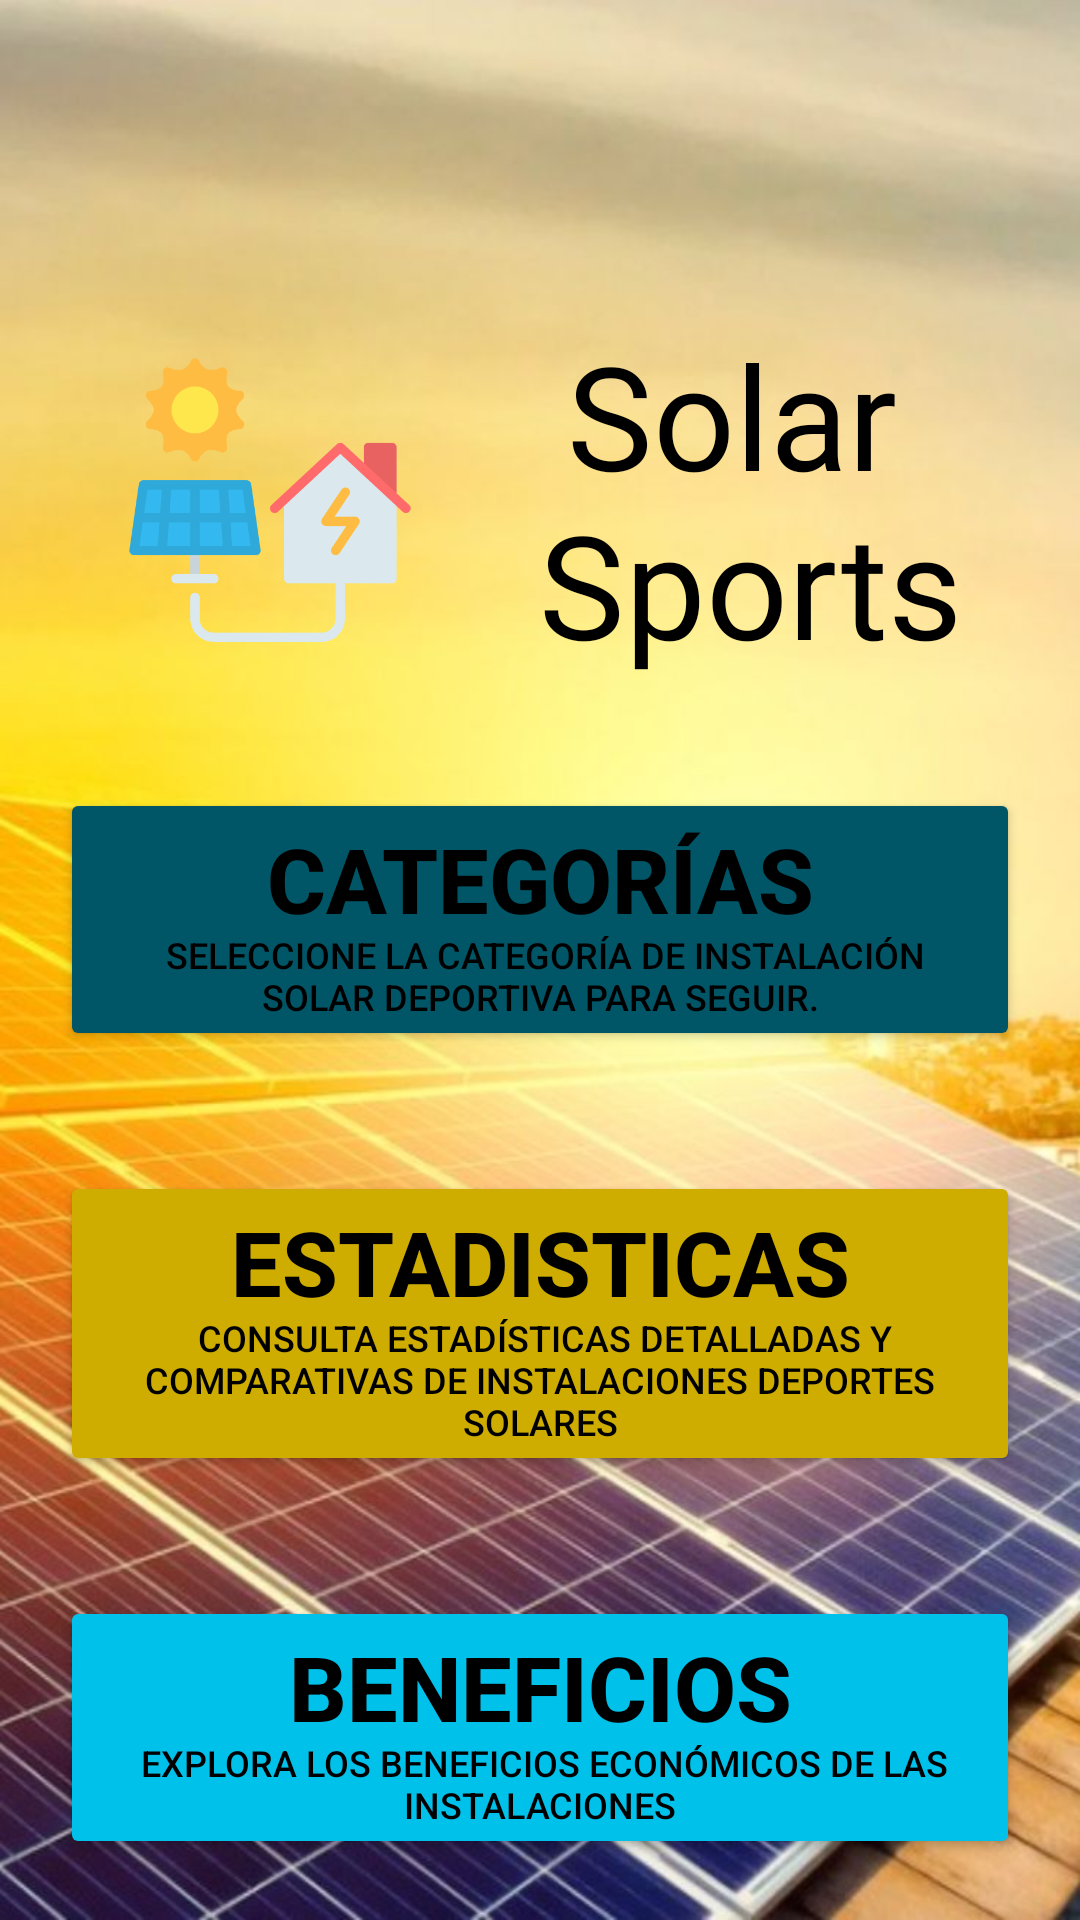

Where to tap for icons on this 1080 × 1920 app screen, as point (x, y):
Panel: point (270, 499)
